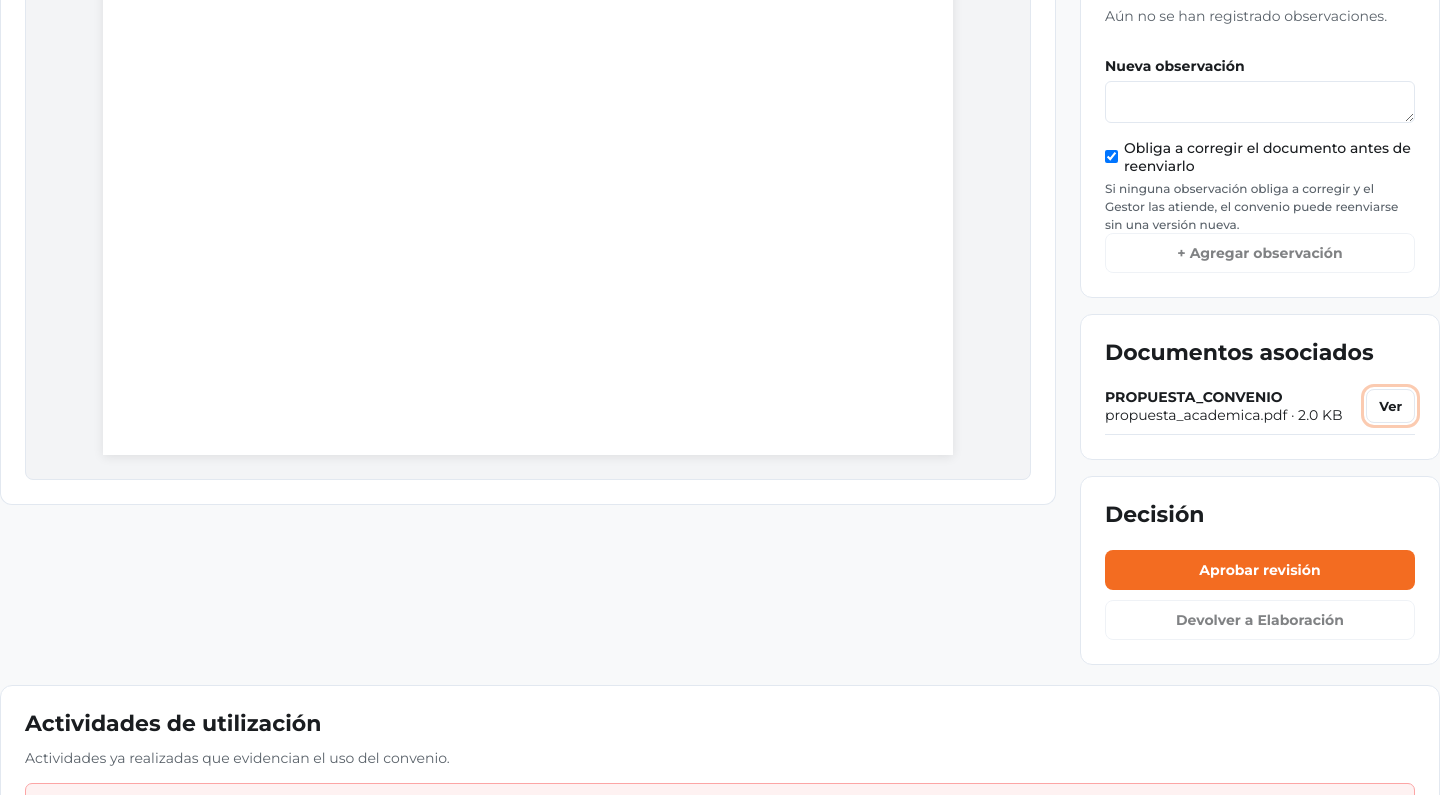
Test: HU-23: previsualización de documentos asociados en revisión jurídica (CA-01, CA-02, CA-03) › CA-05 (HU23-TC06): maneja respuesta 403 en el visor durante revisión jurídica y restaura el foco al cerrar
(page scrolled)
Click the link "Ver".
click(1391, 406)  # box [1366,389,1415,423]
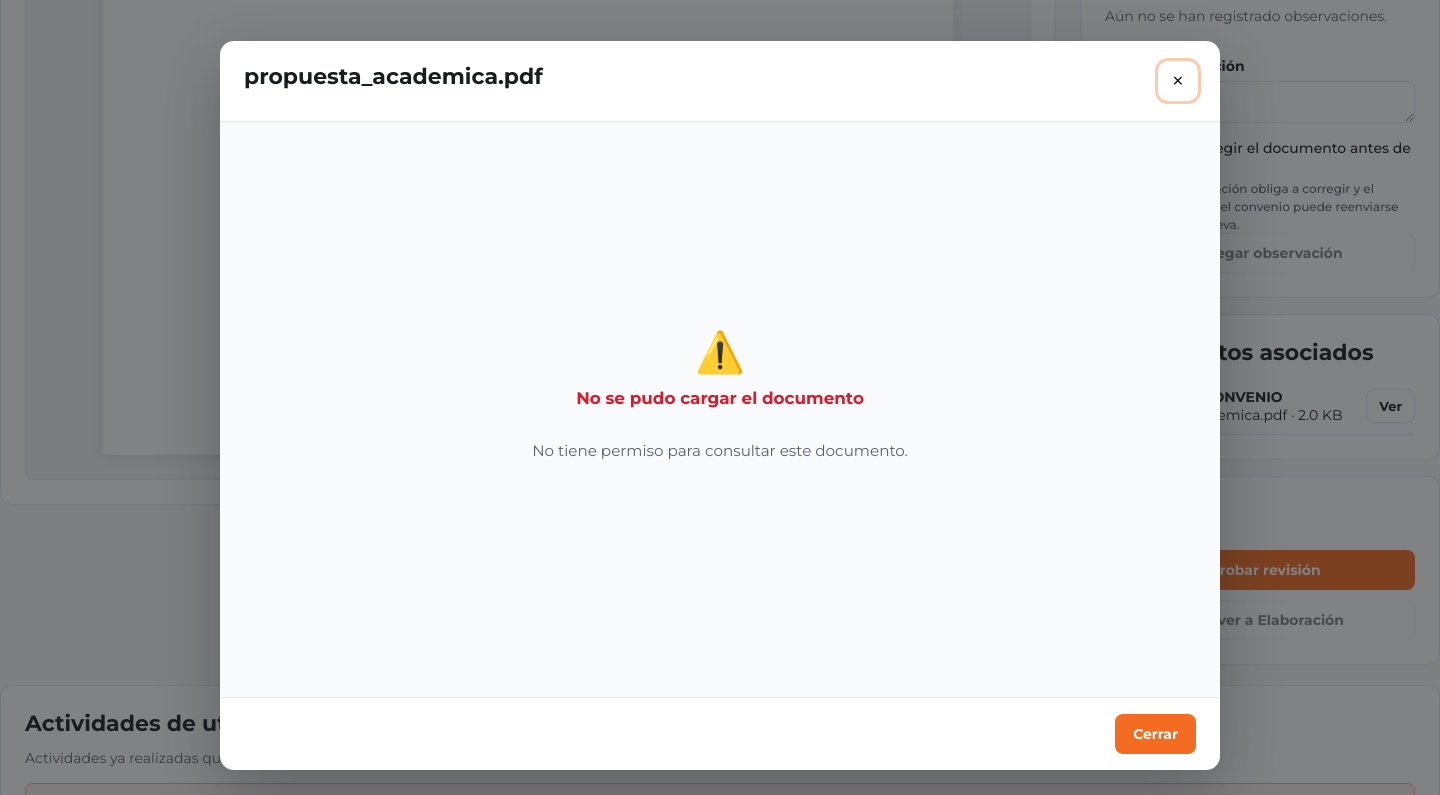
Expected: the element with test id "preview-error" is shown, [532,327,908,460]
Expected: the text "No tiene permiso para consultar este documento." is shown, [532,440,908,462]
Click the button "Cerrar".
click(1156, 734)  # box [1115,714,1196,754]
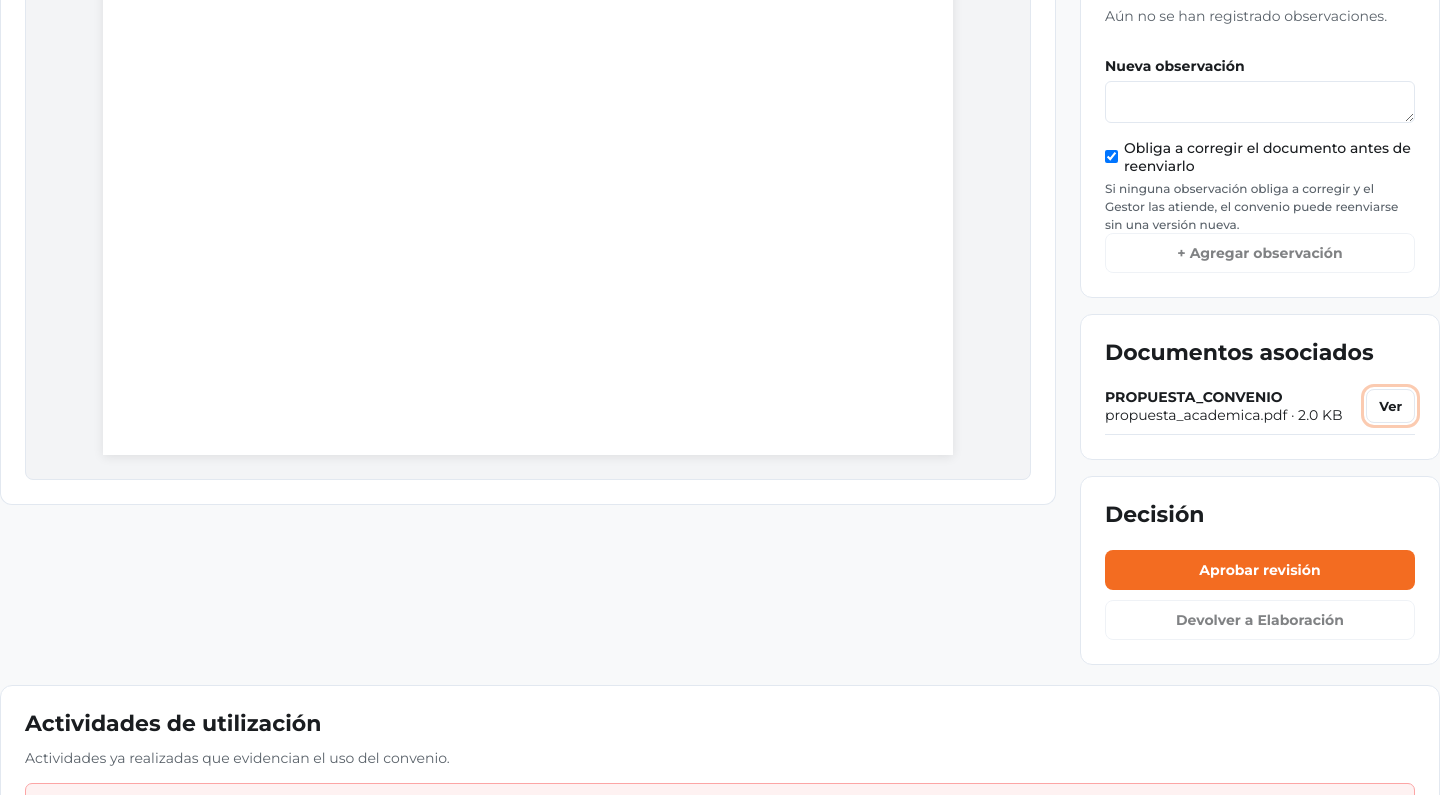
Expected: the heading "Documentos asociados" is shown, [1105,339,1415,366]
Expected: the dialog is gone
